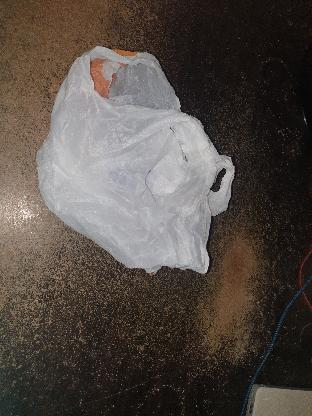Plastic Bag: (38, 47, 234, 277)
